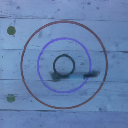Axe Tip: (51, 72, 61, 76)
